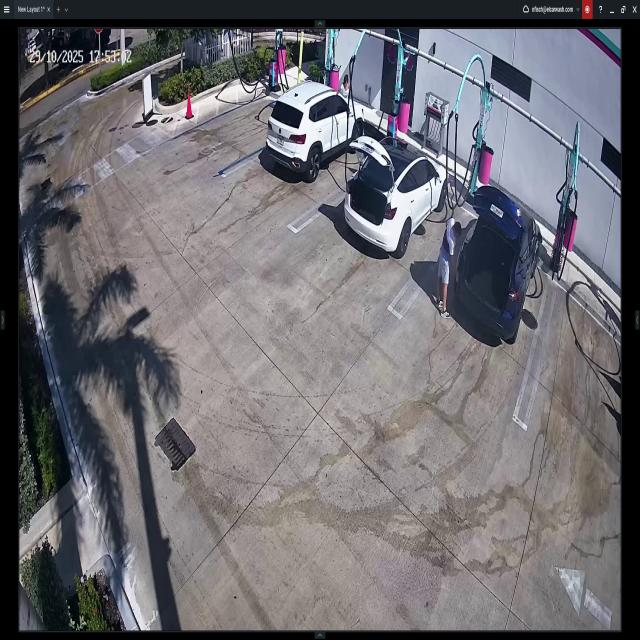Car: (454, 184, 542, 347), (348, 138, 448, 251), (266, 85, 364, 177)
